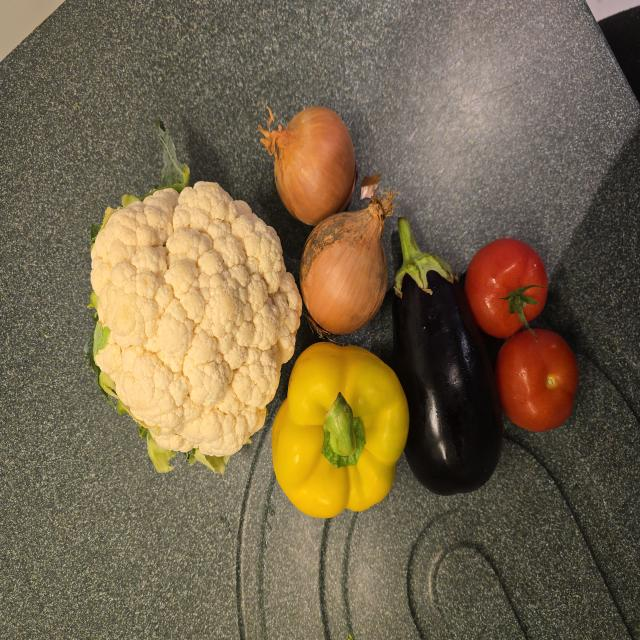Bell Pepper: (272, 343, 409, 518)
Cauliflower: (91, 181, 301, 472)
Eggplant: (392, 218, 502, 495)
Onion: (300, 192, 394, 334), (259, 107, 356, 225)
Tomato: (464, 238, 548, 339), (495, 329, 578, 431)
